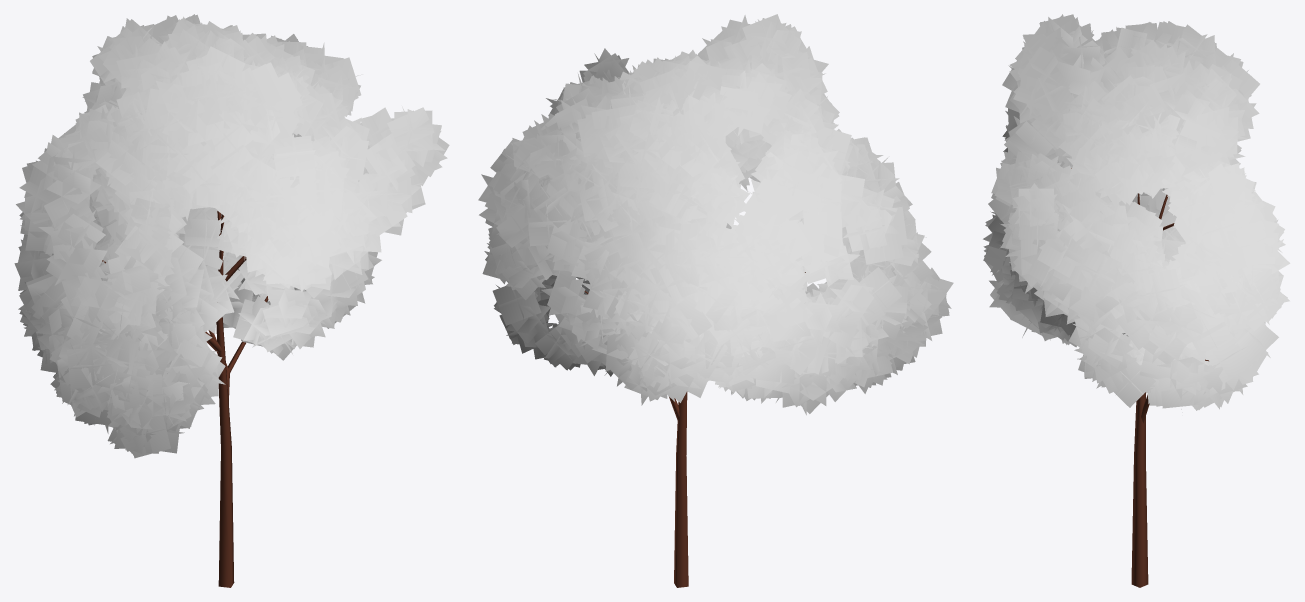
The model's file is TreeStylized.fbx.
The picture shows the model from 3 angles, left to right: view 1: azimuth 30°, elevation 25°; view 2: azimuth 150°, elevation 25°; view 3: azimuth 270°, elevation 25°; orthographic projection. The views are drawn at different scales.
Visible parts, largest first — view 1: Leaves, Trunk; view 2: Leaves, Trunk; view 3: Leaves, Trunk.
Boxes of the visible parts, x1,y1,x2,y2 form: Leaves: [14, 14, 449, 458]; Trunk: [102, 211, 268, 587]; Leaves: [478, 14, 953, 415]; Trunk: [584, 272, 805, 587]; Leaves: [983, 14, 1290, 412]; Trunk: [1071, 168, 1208, 587].
Size of the model in its own units: 5.26 by 7.17 by 3.68.
